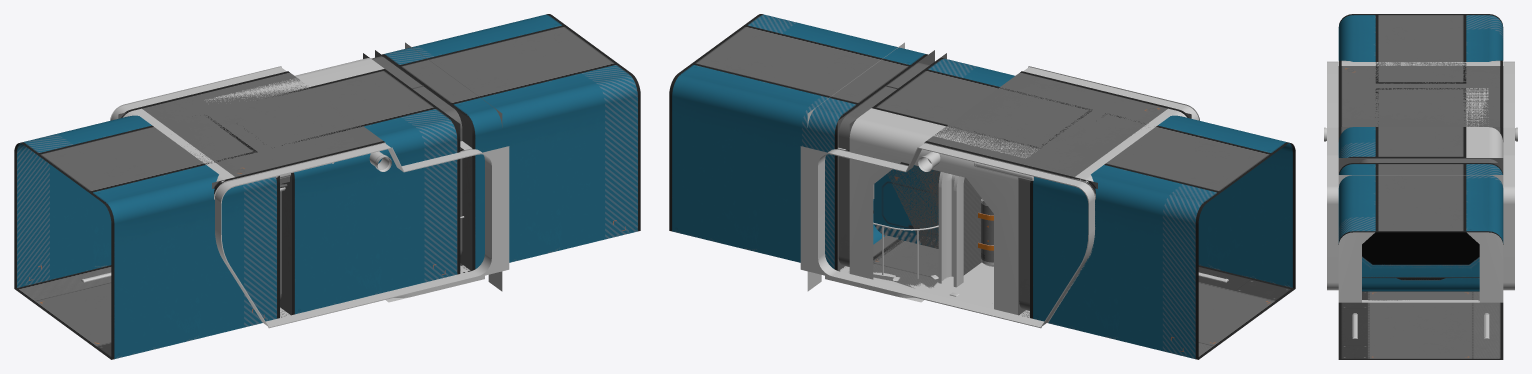
3 views of the same model, side by side, from view 1: azimuth 30°, elevation 25°; view 2: azimuth 150°, elevation 25°; view 3: azimuth 270°, elevation 25° (orthographic). The views are drawn at different scales.
Parts seen in each view (by area): view 1: C4, C3, C1, C2; view 2: C4, C3, C1, Wall_p1, Door, Wall_p2, Door_L1, C2, Tanks_01, C2_v2; view 3: C4, C3, C2_v2, C1, C2_v1, C2.
Boxes of the visible parts, x1=… form: C4: x1=14, y1=14, x2=640, y2=359; C3: x1=110, y1=42, x2=509, y2=328; C1: x1=111, y1=109, x2=502, y2=302; C2: x1=118, y1=71, x2=384, y2=193; C4: x1=669, y1=14, x2=1295, y2=359; C3: x1=800, y1=42, x2=1192, y2=328; C1: x1=804, y1=66, x2=1199, y2=326; Wall_p1: x1=873, y1=165, x2=939, y2=247; Door: x1=938, y1=172, x2=964, y2=287; Wall_p2: x1=886, y1=85, x2=940, y2=248; Door_L1: x1=963, y1=177, x2=981, y2=275; C2: x1=873, y1=71, x2=1191, y2=198; Tanks_01: x1=978, y1=199, x2=993, y2=266; C2_v2: x1=839, y1=199, x2=1029, y2=317; C4: x1=1338, y1=14, x2=1503, y2=359; C3: x1=1327, y1=60, x2=1517, y2=302; C2_v2: x1=1362, y1=232, x2=1479, y2=291; C1: x1=1324, y1=62, x2=1515, y2=302; C2_v1: x1=1362, y1=232, x2=1479, y2=290; C2: x1=1339, y1=60, x2=1502, y2=126.
Bounding box in the file's own units: 11.01 × 3.54 × 4.13.
